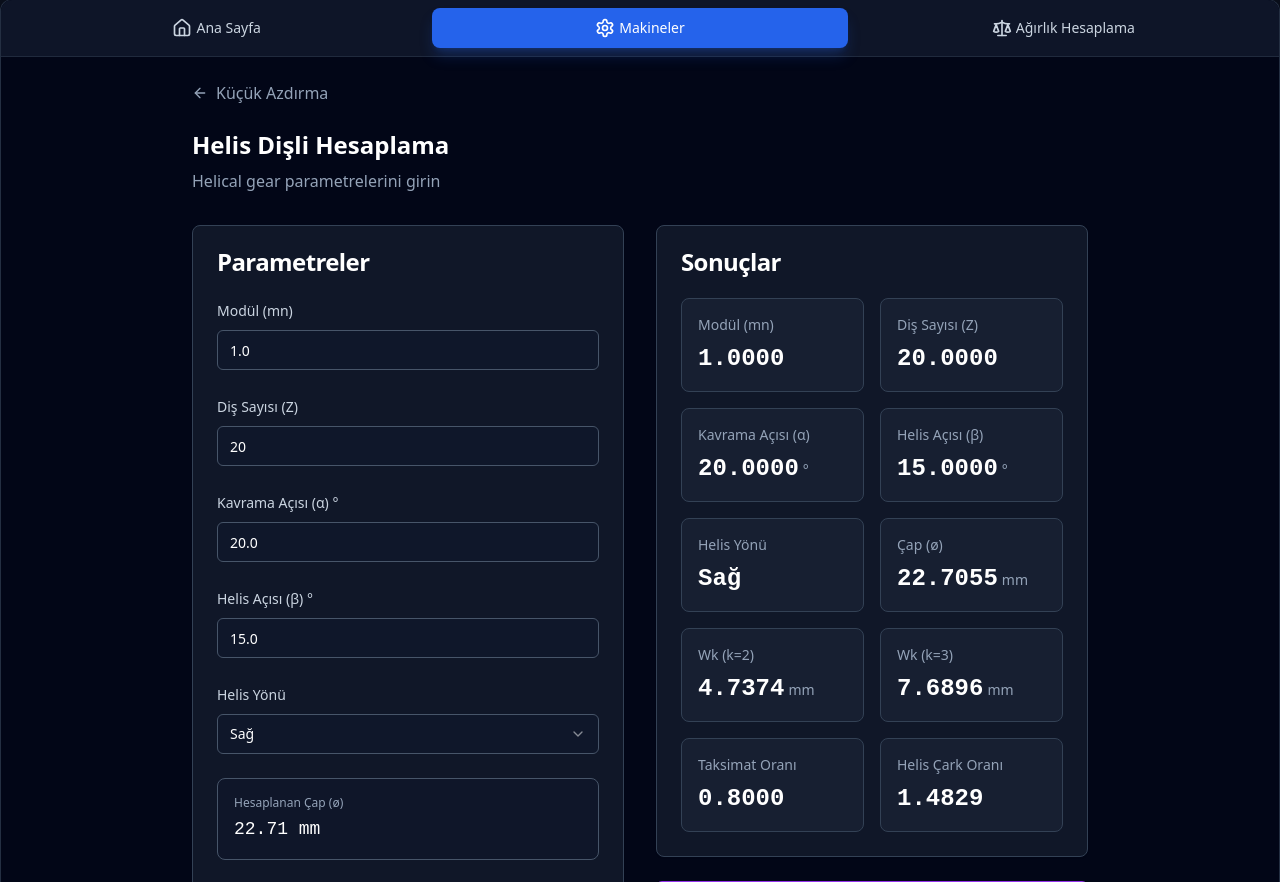
helical gear form: live calculation matches the numerical parity fixture (mn=2, z=25, alpha=20, beta=15) › computes and renders Wk(k=3)=15.5337, Wk(k=4)=21.4380, Taksimat=0.6400, Helis Çark Oranı=0.741462
Check: the heading "Helis Dişli Hesaplama" is shown, box [192,128,449,161]
Replace the text in the number field labelled "Modül (mn)" with "2": (408, 350) [217,330,599,370]
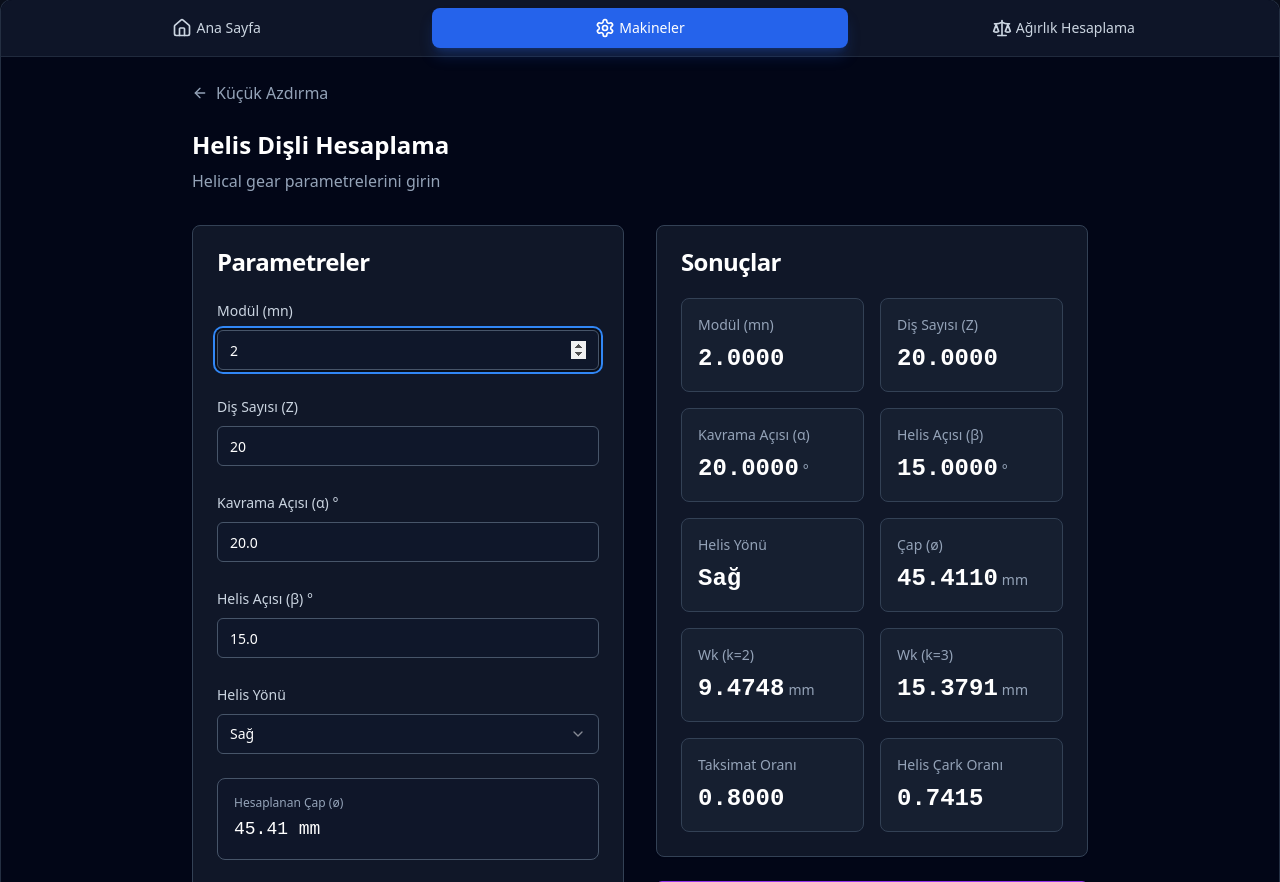
Replace the text in the number field labelled "Diş Sayısı (Z)" with "25": (408, 446) [217,426,599,466]
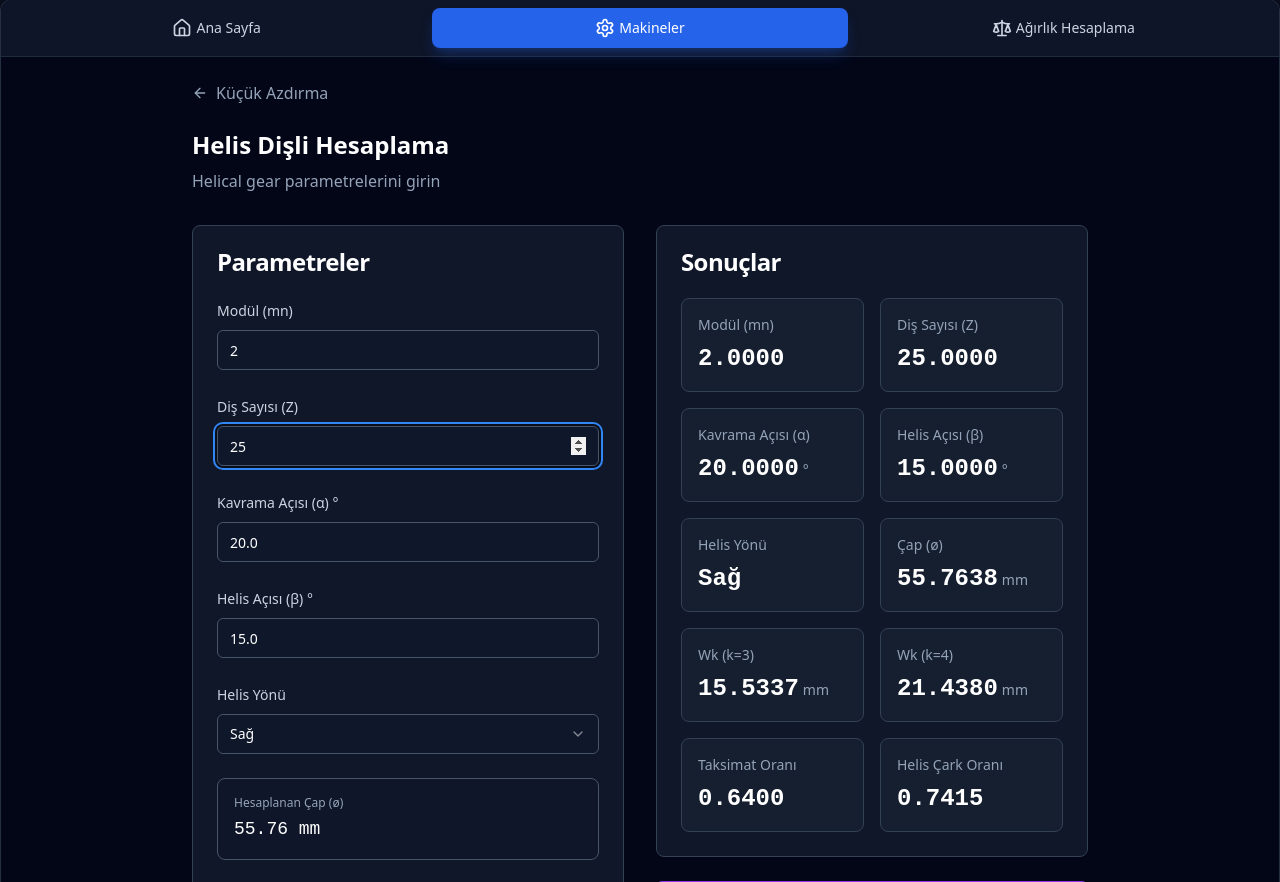
In the number field labelled "Kavrama Açısı (α) °": (408, 542) [217,522,599,562], type "20"
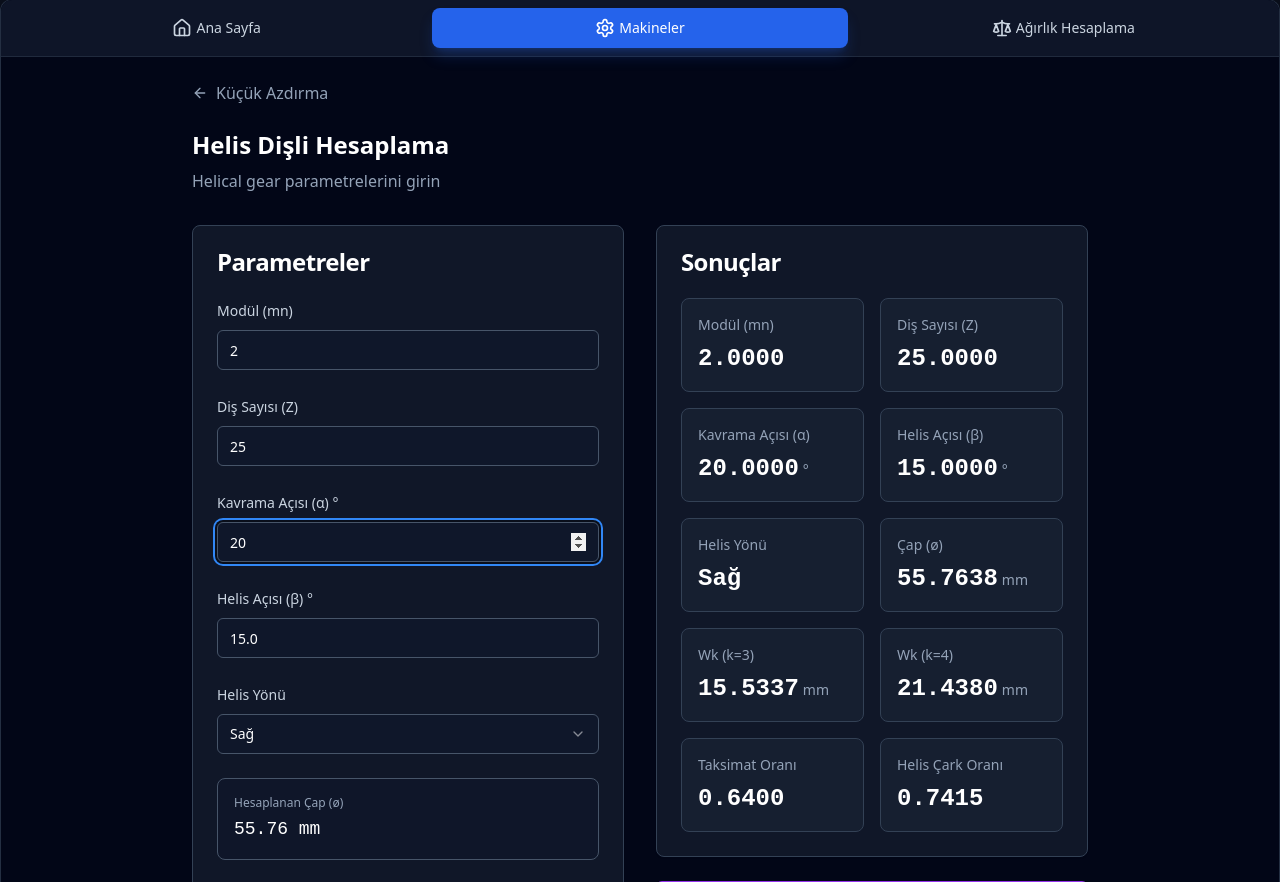
Replace the text in the number field labelled "Helis Açısı (β) °" with "15": (408, 638) [217,618,599,658]
(page scrolled)
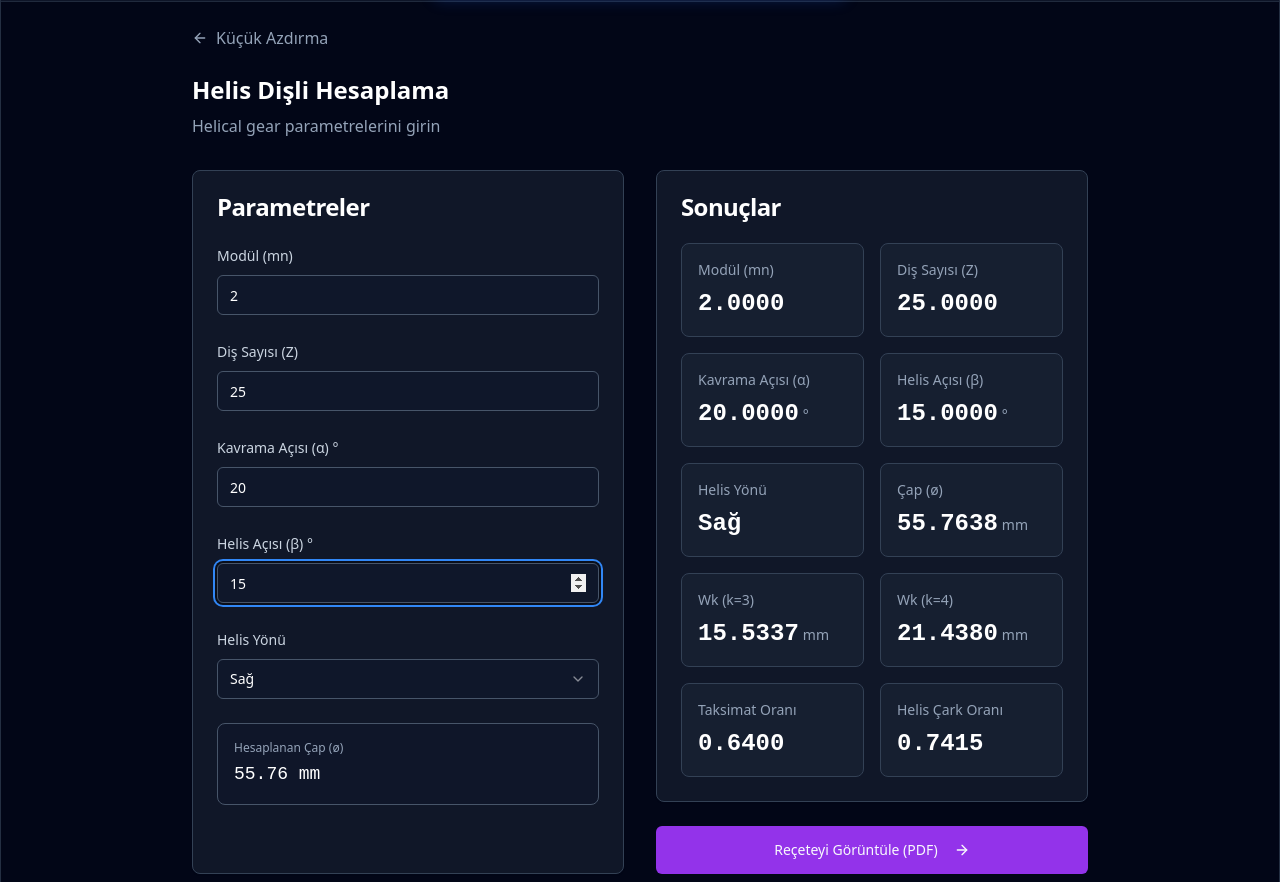
Check: the text "15.5337" is shown, box [698,618,799,650]
Check: the text "21.4380" is shown, box [897,618,998,650]
Check: the text "0.6400" is shown, box [698,728,784,760]
Click the button "Reçeteyi Görüntüle (PDF)": (872, 850) [656,826,1088,874]
(page scrolled)
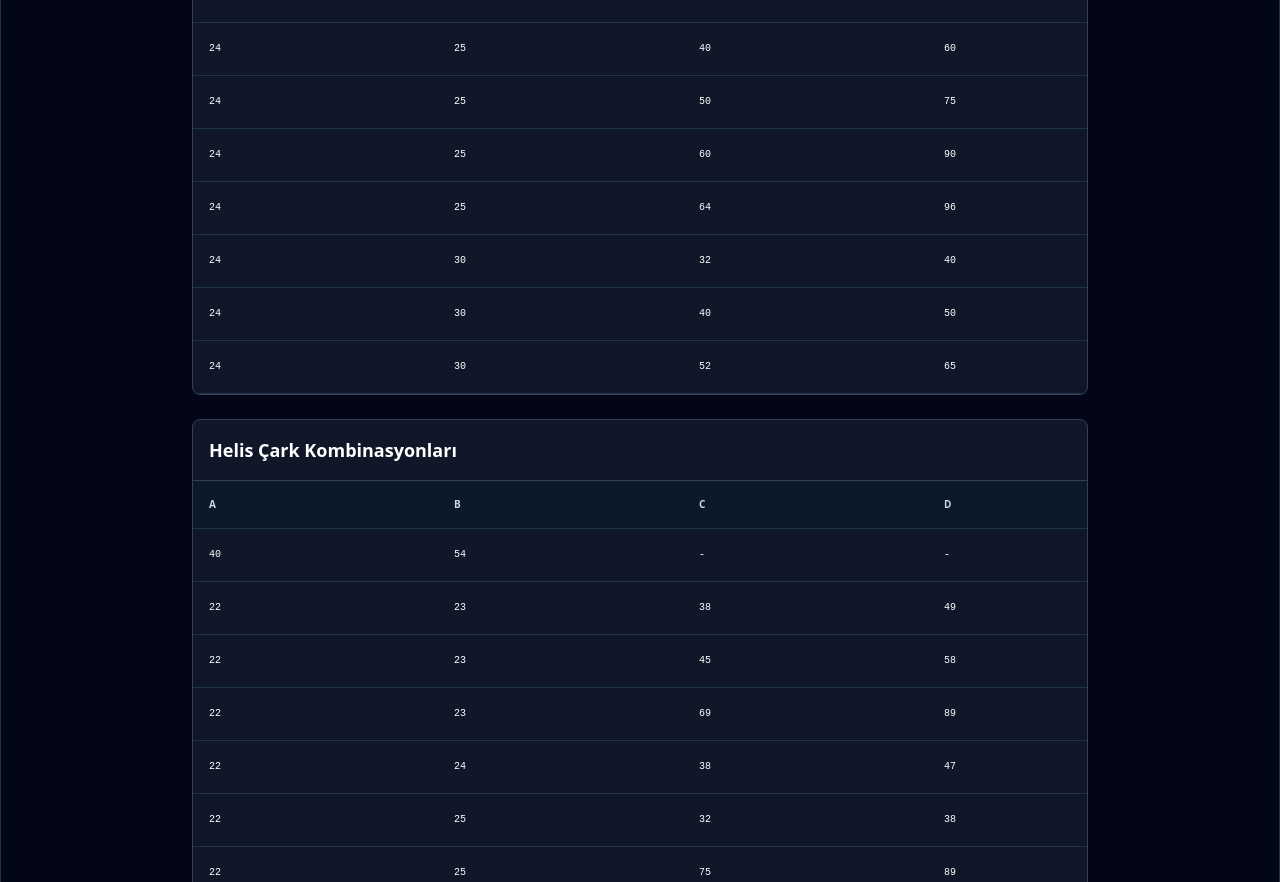
Check: the heading "Helis Çark Kombinasyonları" is shown, box [209,438,457,462]
